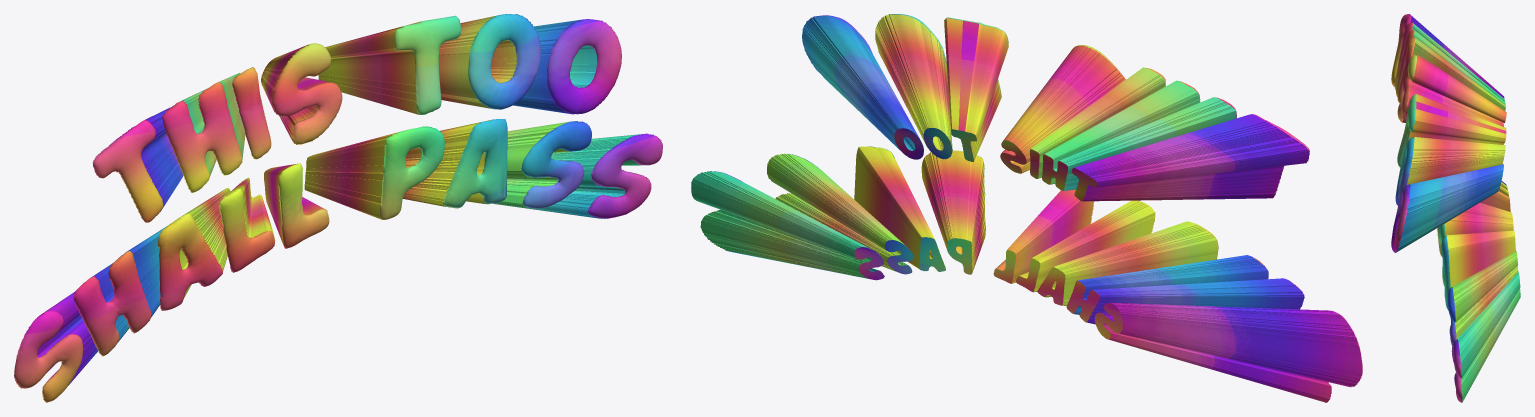
The model's file is HandRainbowTexts.gltf.
3 views of the same model, side by side, from view 1: azimuth 30°, elevation 25°; view 2: azimuth 150°, elevation 25°; view 3: azimuth 270°, elevation 25° (orthographic). The views are drawn at different scales.
Parts seen in each view (by area): view 1: Shall Pass, This too; view 2: Shall Pass, This too; view 3: This too, Shall Pass.
Boxes of the visible parts, x1=… form: Shall Pass: x1=14, y1=119, x2=662, y2=402; This too: x1=92, y1=14, x2=621, y2=222; Shall Pass: x1=691, y1=146, x2=1362, y2=402; This too: x1=802, y1=14, x2=1309, y2=201; This too: x1=1391, y1=14, x2=1506, y2=252; Shall Pass: x1=1437, y1=181, x2=1520, y2=402.
Bounding box in the file's own units: 0.3854 × 0.1654 × 0.0824.
2 materials, 2 textured.
